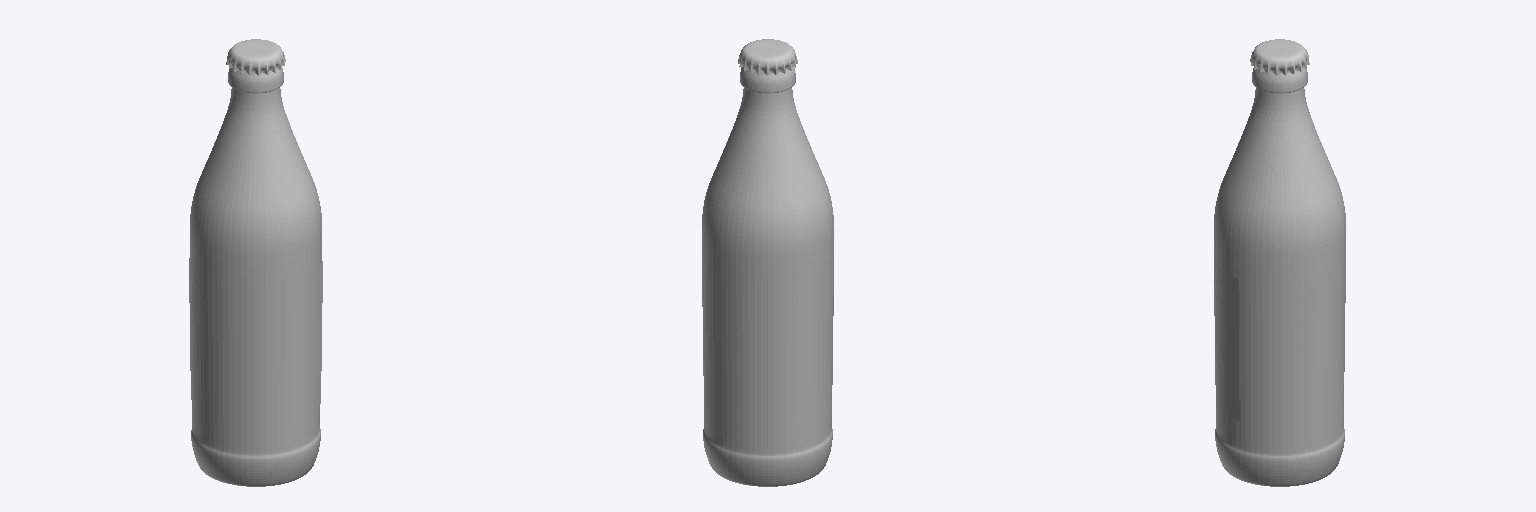
The model's file is 14043_16_oz_Beer_Bottle_v2_L1_normalized.obj.
The picture shows the model from 3 angles: view 1: azimuth 30°, elevation 25°; view 2: azimuth 150°, elevation 25°; view 3: azimuth 270°, elevation 25°; orthographic projection.
Visible parts, largest first — view 1: 14043_16_oz__Beer_Bottle_bottle Mesh Mesh Mesh, 14043_16_oz__Beer_Bottle_label Mesh Mesh Mesh, 14043_16_oz__Beer_Bottle_cap Mesh Mesh Mesh; view 2: 14043_16_oz__Beer_Bottle_bottle Mesh Mesh Mesh, 14043_16_oz__Beer_Bottle_label Mesh Mesh Mesh, 14043_16_oz__Beer_Bottle_cap Mesh Mesh Mesh; view 3: 14043_16_oz__Beer_Bottle_bottle Mesh Mesh Mesh, 14043_16_oz__Beer_Bottle_label Mesh Mesh Mesh, 14043_16_oz__Beer_Bottle_cap Mesh Mesh Mesh.
Boxes of the visible parts, x1=… form: 14043_16_oz__Beer_Bottle_bottle Mesh Mesh Mesh: x1=190, y1=68, x2=321, y2=486; 14043_16_oz__Beer_Bottle_label Mesh Mesh Mesh: x1=189, y1=258, x2=322, y2=426; 14043_16_oz__Beer_Bottle_cap Mesh Mesh Mesh: x1=226, y1=39, x2=285, y2=75; 14043_16_oz__Beer_Bottle_bottle Mesh Mesh Mesh: x1=702, y1=67, x2=833, y2=486; 14043_16_oz__Beer_Bottle_label Mesh Mesh Mesh: x1=793, y1=261, x2=833, y2=424; 14043_16_oz__Beer_Bottle_cap Mesh Mesh Mesh: x1=738, y1=39, x2=797, y2=75; 14043_16_oz__Beer_Bottle_bottle Mesh Mesh Mesh: x1=1214, y1=68, x2=1345, y2=486; 14043_16_oz__Beer_Bottle_label Mesh Mesh Mesh: x1=1214, y1=261, x2=1239, y2=420; 14043_16_oz__Beer_Bottle_cap Mesh Mesh Mesh: x1=1250, y1=39, x2=1309, y2=75.
Bounding box in the file's own units: 1.05 × 3.63 × 1.05.